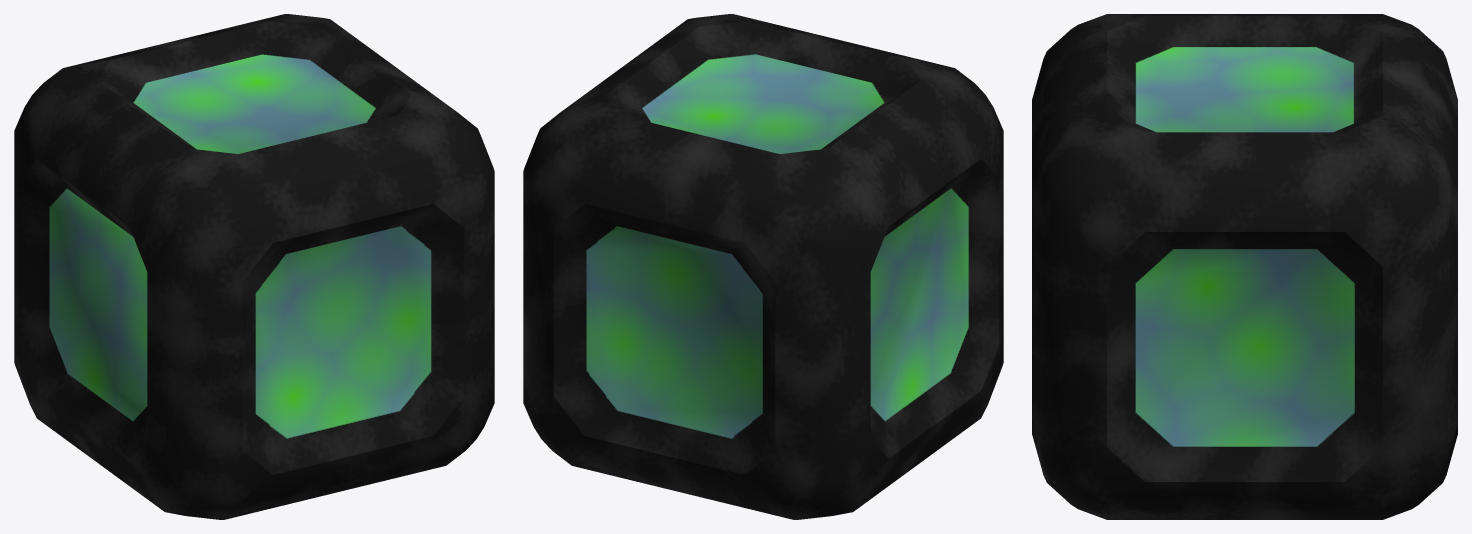
The model's file is RS_3D_P_plastic.fbx.
3 renders of one model, left to right at view 1: azimuth 30°, elevation 25°; view 2: azimuth 150°, elevation 25°; view 3: azimuth 270°, elevation 25°, orthographic. The views are drawn at different scales.
Parts seen in each view (by area): view 1: RS_3D_plastic; view 2: RS_3D_plastic; view 3: RS_3D_plastic.
Boxes of the visible parts, <box> form: RS_3D_plastic: <box>14,14,494,519</box>; RS_3D_plastic: <box>523,14,1003,519</box>; RS_3D_plastic: <box>1032,14,1457,519</box>.
Size of the model in its own units: 33 by 33 by 33.
